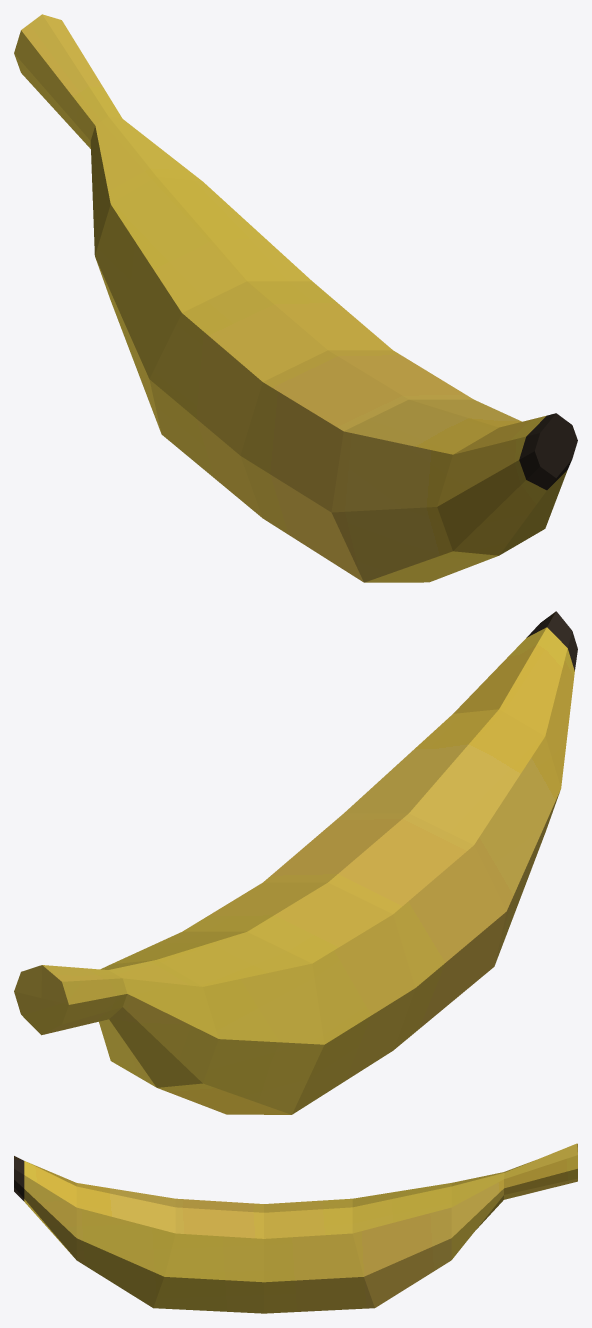
The model's file is CHAHIN_BANANA.gltf.
3 renders of one model, top to bottom at view 1: azimuth 30°, elevation 25°; view 2: azimuth 150°, elevation 25°; view 3: azimuth 270°, elevation 25°, orthographic. The views are drawn at different scales.
Parts seen in each view (by area): view 1: node-0; view 2: node-0; view 3: node-0.
Boxes of the visible parts, x1=… form: node-0: x1=14, y1=14, x2=577, y2=582; node-0: x1=14, y1=611, x2=577, y2=1114; node-0: x1=14, y1=1143, x2=577, y2=1313.
Size of the model in its own units: 0.2843 by 0.4573 by 1.45.
Materials: 1 (1 with a texture image).
